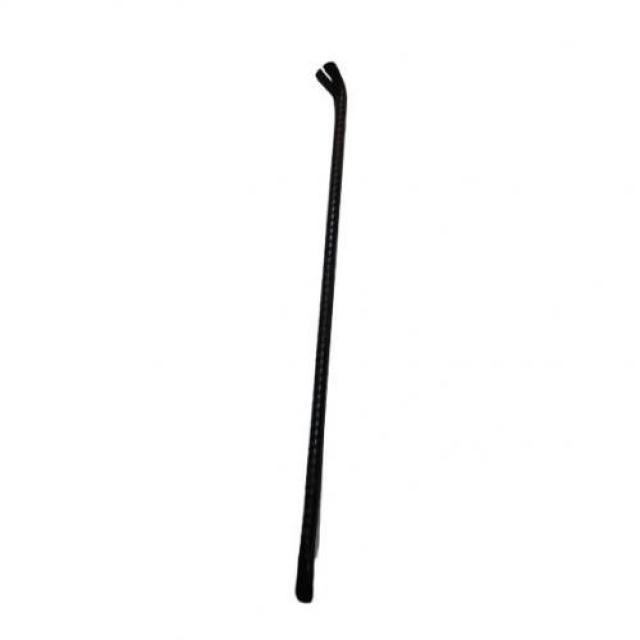Linggis: (284, 54, 353, 609)
